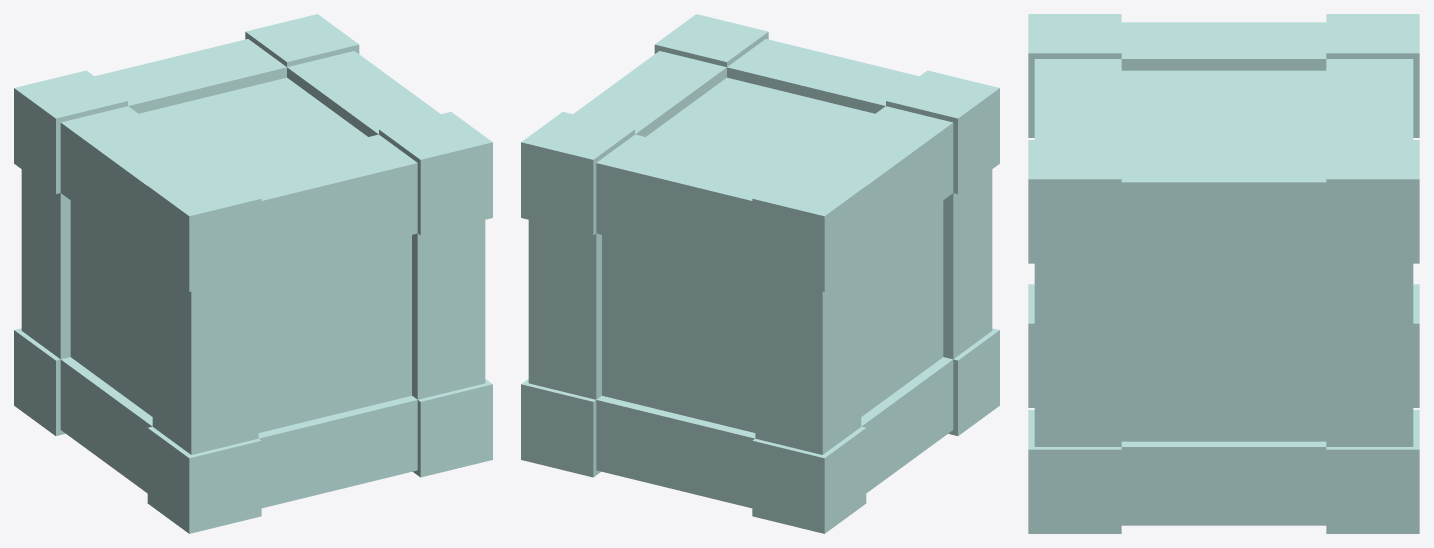
The picture shows the model from 3 angles, left to right: view 1: azimuth 30°, elevation 25°; view 2: azimuth 150°, elevation 25°; view 3: azimuth 270°, elevation 25°; orthographic projection. The views are drawn at different scales.
Visible parts, largest first — view 1: defaultMaterial; view 2: defaultMaterial; view 3: defaultMaterial.
Boxes of the visible parts, box(x1,y1,x2,y2) form: defaultMaterial: box(14, 14, 492, 533); defaultMaterial: box(521, 14, 999, 533); defaultMaterial: box(1028, 14, 1419, 533).
Bounding box in the file's own units: 1 × 1 × 1.
